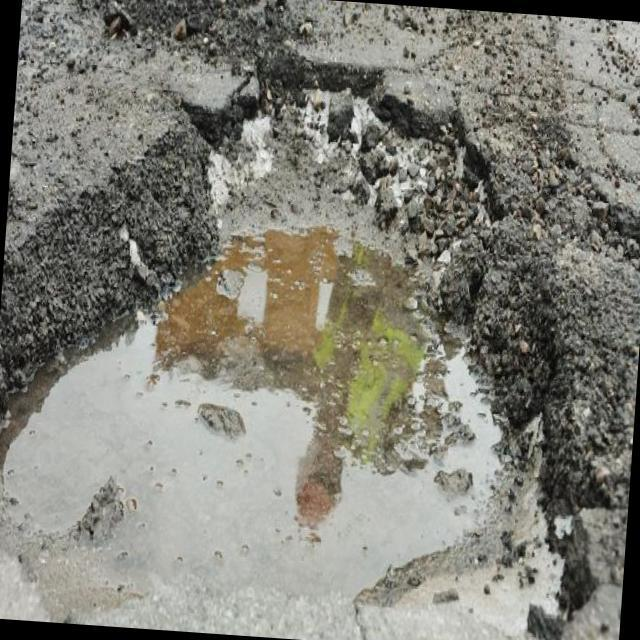Pothole: (0, 94, 564, 640)
